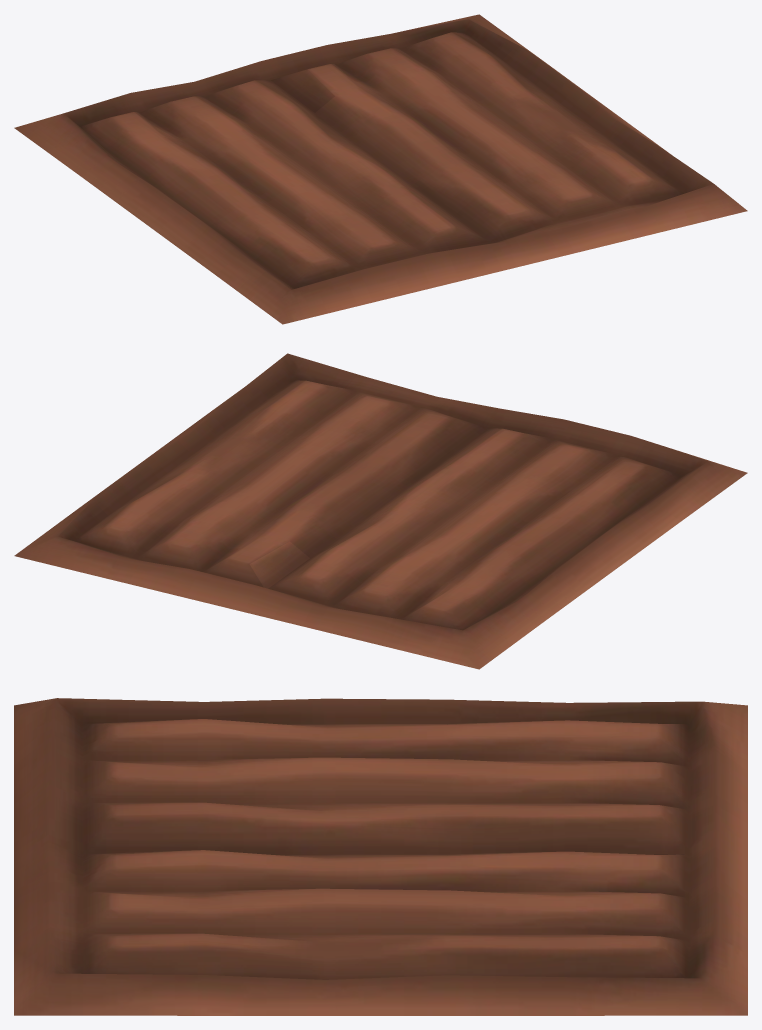
File: farm_land_01.glb
3 renders of one model, top to bottom at view 1: azimuth 30°, elevation 25°; view 2: azimuth 150°, elevation 25°; view 3: azimuth 270°, elevation 25°, orthographic. The views are drawn at different scales.
Visible parts, largest first — view 1: farm:land; view 2: farm:land; view 3: farm:land.
Part boxes in pixels (x1,y1,x2,y2): farm:land: (14, 14, 747, 324); farm:land: (14, 353, 747, 669); farm:land: (14, 698, 747, 1015).
Bounding box in the file's own units: 5.82 × 0.2626 × 5.81.
1 material, 1 textured.
